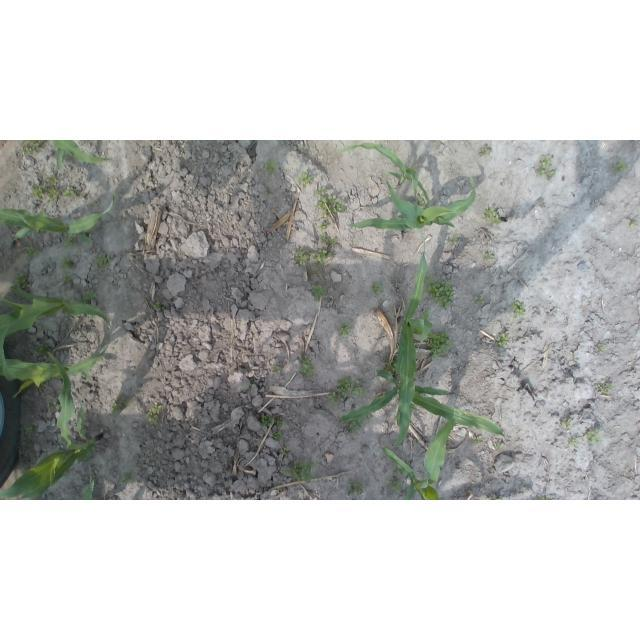Maize: (2, 350, 104, 498), (336, 369, 508, 444), (336, 142, 478, 231), (0, 285, 112, 374), (393, 233, 431, 446), (381, 415, 462, 499), (1, 348, 108, 400), (0, 195, 116, 240), (46, 142, 110, 168)
Weeds: (328, 376, 367, 406), (30, 179, 76, 204), (310, 188, 346, 216), (288, 245, 331, 264), (283, 461, 317, 484), (260, 411, 285, 442), (429, 280, 454, 309), (428, 331, 451, 358), (533, 153, 556, 180), (110, 396, 139, 417), (319, 218, 336, 246), (19, 141, 50, 156), (147, 403, 165, 425), (92, 252, 111, 269), (483, 205, 499, 224), (301, 357, 315, 378), (585, 429, 602, 445), (511, 300, 528, 316), (596, 380, 615, 394), (345, 482, 365, 495), (21, 418, 35, 436), (347, 419, 363, 434), (260, 159, 277, 173), (118, 471, 134, 485), (370, 281, 384, 296), (297, 171, 312, 185), (390, 475, 401, 494), (480, 142, 493, 158), (60, 270, 72, 286), (497, 333, 510, 347), (310, 286, 324, 299), (568, 437, 581, 449), (561, 417, 574, 429), (616, 161, 630, 172), (338, 322, 350, 334), (25, 247, 37, 258), (153, 299, 162, 312), (485, 250, 496, 259), (280, 447, 290, 456), (630, 218, 639, 228), (64, 260, 73, 269), (596, 343, 606, 351), (475, 295, 484, 303)
